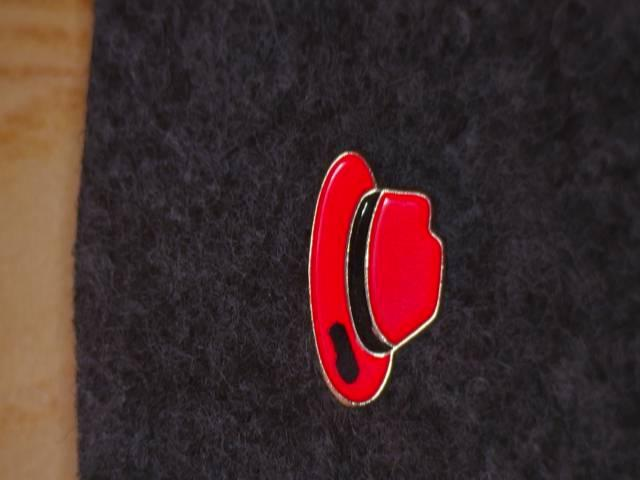Red-Hat: (286, 126, 483, 433)
Scratch: (315, 311, 369, 398)
